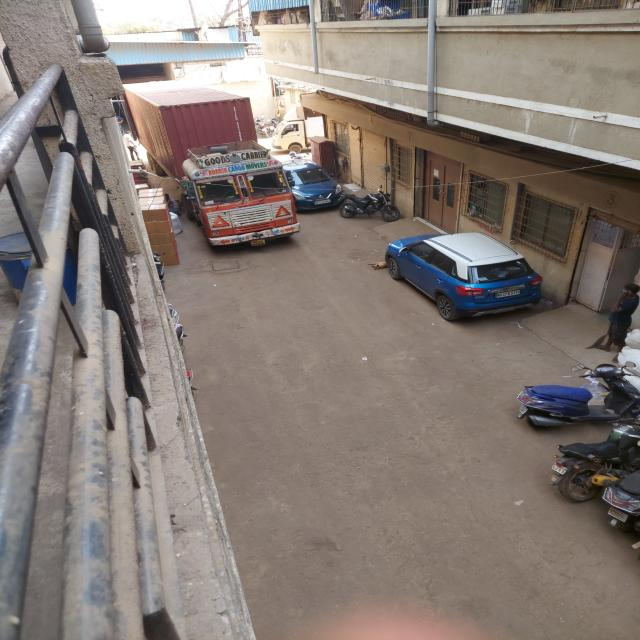Bike: (507, 353, 631, 427), (523, 421, 640, 493), (597, 473, 640, 561), (337, 172, 413, 218)
Bus: (383, 218, 544, 332)
Car: (274, 144, 345, 222)
Truck: (134, 89, 290, 269)
